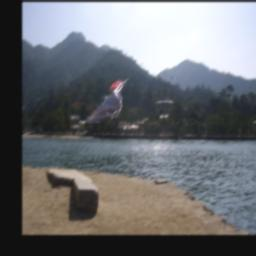Woodpecker: (86, 79, 129, 124)
